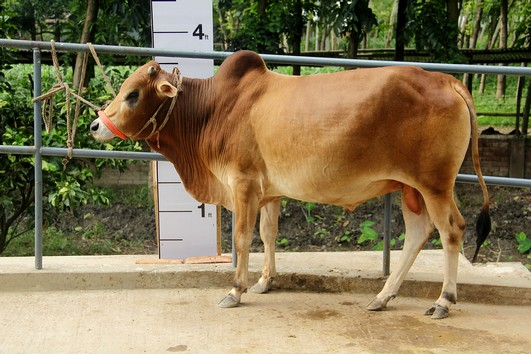cow: (87, 48, 491, 325)
